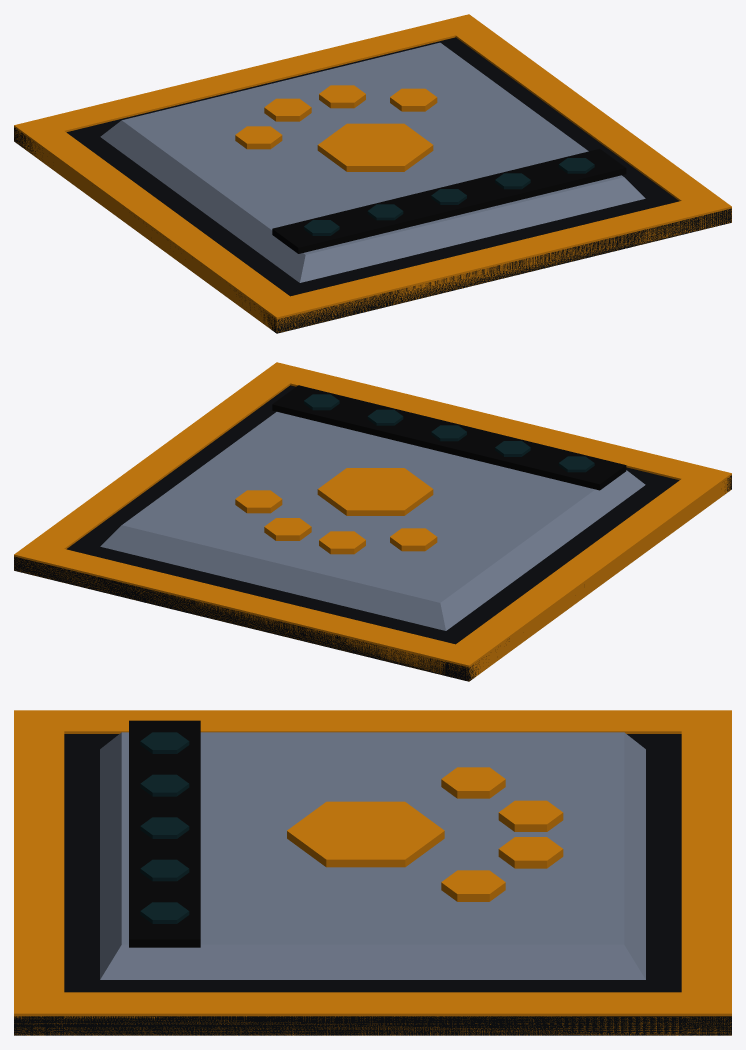
The model's file is SM_PressurePlate_Anim.glb.
3 renders of one model, top to bottom at view 1: azimuth 30°, elevation 25°; view 2: azimuth 150°, elevation 25°; view 3: azimuth 270°, elevation 25°, orthographic. The views are drawn at different scales.
Visible parts, largest first — view 1: Plate_Top, Plate_Frame; view 2: Plate_Top, Plate_Frame; view 3: Plate_Top, Plate_Frame.
Part boxes in pixels (x1=…): Plate_Top: x1=100, y1=42, x2=645, y2=282; Plate_Frame: x1=14, y1=14, x2=731, y2=333; Plate_Top: x1=100, y1=385, x2=645, y2=630; Plate_Frame: x1=14, y1=362, x2=731, y2=681; Plate_Top: x1=100, y1=720, x2=645, y2=979; Plate_Frame: x1=14, y1=710, x2=731, y2=1035.
Size of the model in its own units: 1 by 0.089 by 1.
